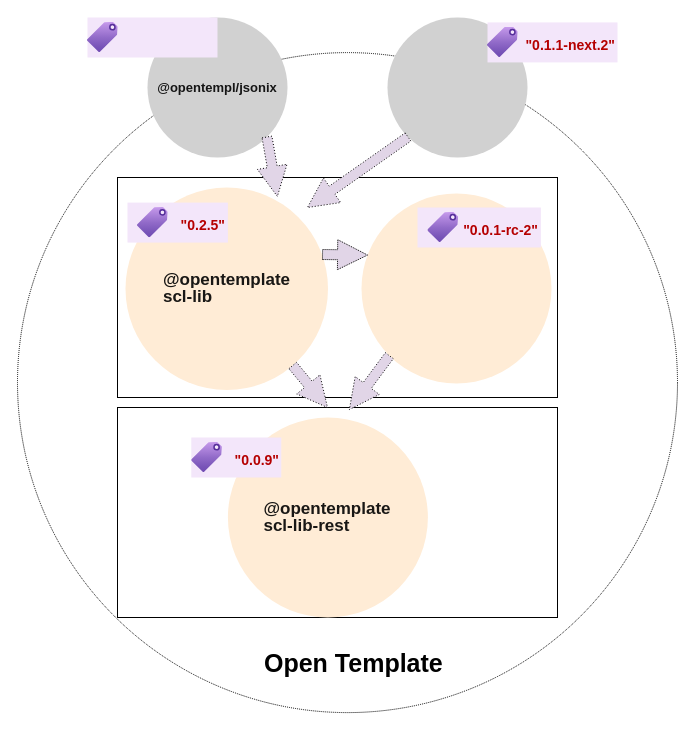
The diagram is 695 pixels wide and 730 high, and some of its shapes have lost their labels. The box of each missing label's shape, as (x1, y1, x2, y2) in pixels:
"3.0.0-next.0": (87, 17, 217, 57)
@opentempl/cxsd: (387, 17, 527, 157)
@opentemplate scl-lib-adapter-way: (361, 193, 551, 383)
